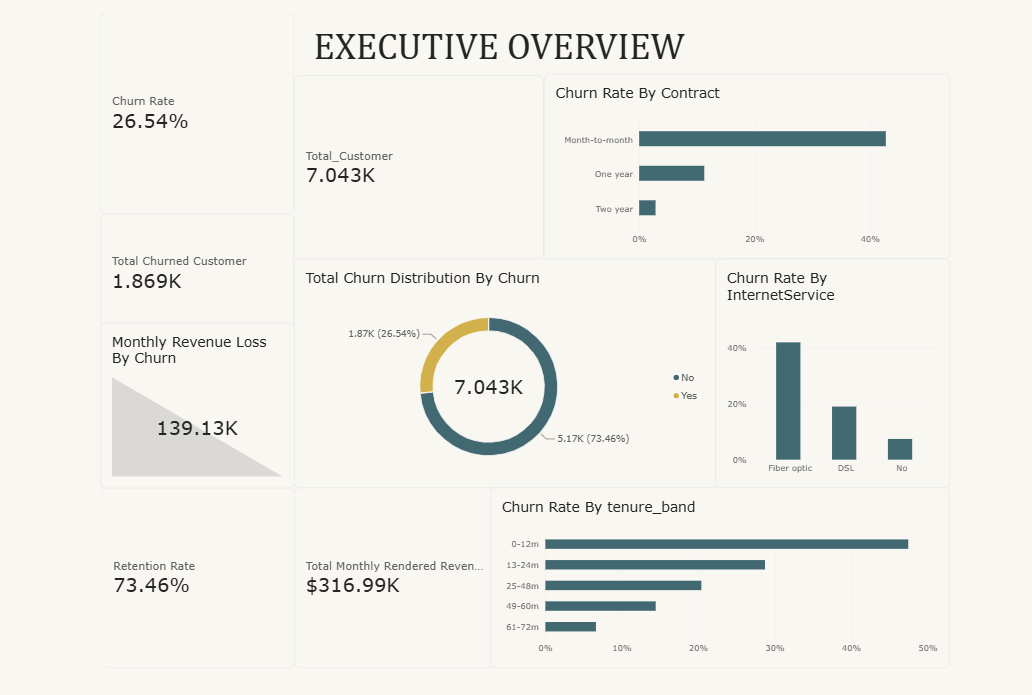

What the dashboard file says about the page in this screenshot:
{"tool":"powerbi","page":{"name":"Executive Dahboard","canvas":[1920,1080],"ordinal":0},"visuals":[{"type":"cardVisual","fields":{"Data":["telco_clean_using_py.Churn Rate","telco_clean_using_py.Churn Rate"]},"box":[335,68.3,280,291.7],"z":0},{"type":"cardVisual","fields":{"Data":["measures_.Retention Rate"]},"box":[335.7,757.1,280,261.4],"z":4},{"type":"textbox","box":[616.7,68.3,570,90],"z":6},{"type":"cardVisual","fields":{"Data":["measures_.Total monthly revenue retendered customer"]},"box":[615.7,757.1,292.9,261.4],"z":7},{"type":"cardVisual","title":"Total Customers","fields":{"Data":["measures_.Total_Customer"]},"box":[615.7,158.6,362.9,267.1],"z":9},{"type":"cardVisual","fields":{"Data":["measures_.Churned Customer"]},"box":[335,360,280,170],"z":10},{"type":"donutChart","title":"Total Churn Distribution By Churn","fields":{"Category":["telco_clean_using_py.Churn"],"Y":["CountNonNull(telco_clean_using_py.Churn)"]},"box":[615,425,610,331.7],"z":14},{"type":"barChart","title":"Churn Rate By Contract","fields":{"Category":["telco_clean_using_py.Contract"],"Y":["measures_.Churn Rate"]},"box":[978,158,588,268],"z":15},{"type":"barChart","title":"Churn Rate By tenure_band","fields":{"Category":["telco_clean_using_py.tenure_band"],"Y":["measures_.Churn Rate"]},"box":[900,757.1,665.7,261.4],"z":16},{"type":"lineClusteredColumnComboChart","title":"Churn Rate By InternetService","fields":{"Category":["telco_clean_using_py.InternetService"],"Y":["measures_.Churn Rate"]},"box":[1225,425,340,331.7],"z":17},{"type":"kpi","title":"Monthly Revenue Loss By Churn","fields":{"Indicator":["Sum(telco_clean_using_py.MonthlyCharges)"],"TrendLine":["telco_clean_using_py.Churn"]},"box":[334.3,517.1,281.4,240],"z":18}]}

Visuals, with their boxes on the page's 1920x1080 design canvas (x1, y1, x2, y2). These are canvas units, not pixel positions in the 1032x695 screenshot, which may show the page scaled, cropped or inside an application window:
cardVisual - telco_clean_using_py.Churn Rate x telco_clean_using_py.Churn Rate: select_region(335, 68, 615, 360)
cardVisual - measures_.Retention Rate: select_region(336, 757, 616, 1018)
textbox: select_region(617, 68, 1187, 158)
cardVisual - measures_.Total monthly revenue retendered customer: select_region(616, 757, 909, 1018)
"Total Customers" cardVisual: select_region(616, 159, 979, 426)
cardVisual - measures_.Churned Customer: select_region(335, 360, 615, 530)
"Total Churn Distribution By Churn" donutChart: select_region(615, 425, 1225, 757)
"Churn Rate By Contract" barChart: select_region(978, 158, 1566, 426)
"Churn Rate By tenure_band" barChart: select_region(900, 757, 1566, 1018)
"Churn Rate By InternetService" lineClusteredColumnComboChart: select_region(1225, 425, 1565, 757)
"Monthly Revenue Loss By Churn" kpi: select_region(334, 517, 616, 757)
